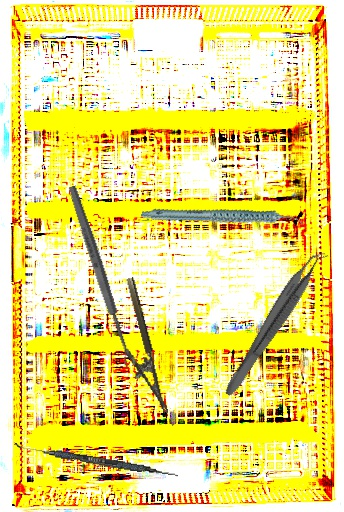Handpiece: (140, 177, 305, 260)
Needle Holder: (108, 276, 169, 420)
Spatula Surgical: (13, 443, 179, 478)
Surgical Spoon: (66, 184, 136, 369)
Tissue Forceps: (221, 244, 330, 403)
